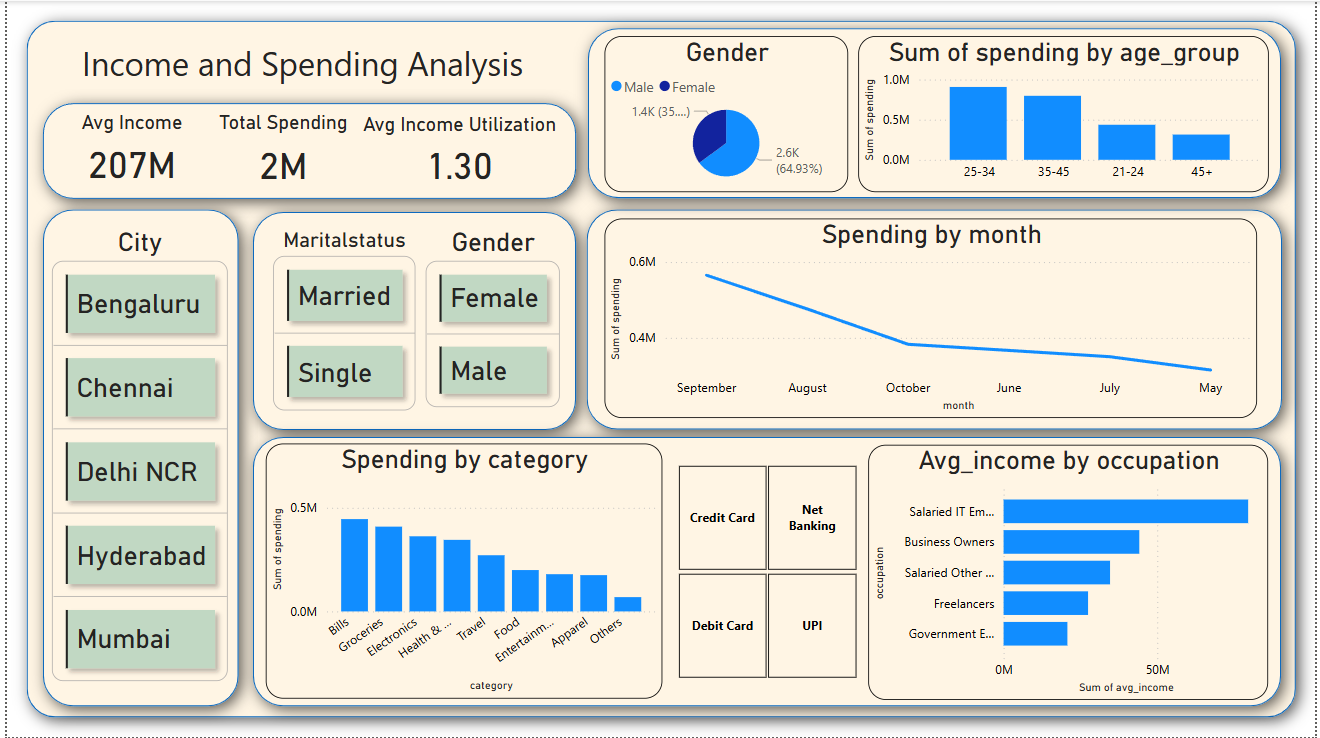

Layout of this report page (visuals, bound fields, positions):
{"tool":"powerbi","page":{"name":"Page 1","canvas":[1280,720],"ordinal":0},"visuals":[{"type":"shape","box":[584.5,13.5,553.9,165.1],"z":0},{"type":"shape","box":[0,0,1280,720],"z":1000},{"type":"shape","box":[22,13.5,553.9,165.1],"z":2000},{"type":"card","title":"Avg Income","fields":{"Values":["Sum(dim_customers_copy (2).avg_income)"]},"box":[57.5,44,129.6,107.6],"z":3000},{"type":"card","title":"Total Spending","fields":{"Values":["Sum(dim_customers_copy (2).spending)"]},"box":[187.1,44,166.3,110.1],"z":4000},{"type":"shape","box":[15.9,156.5,229.9,552.7],"z":5000},{"type":"advancedSlicerVisual","title":"City","fields":{"Values":["dim_customers_copy (2).city"]},"box":[39.1,203,182.2,451.2],"z":6000},{"type":"shape","box":[221.3,152.9,354.6,286.1],"z":7000},{"type":"advancedSlicerVisual","title":"Gender","fields":{"Values":["dim_customers_copy (2).gender"]},"box":[404.8,184.6,141.8,218.9],"z":8000},{"type":"advancedSlicerVisual","title":"Maritalstatus","fields":{"Values":["dim_customers_copy (2).marital status"]},"box":[255.6,184.6,149.2,222.6],"z":9000},{"type":"shape","box":[547.5,185,718.8,253.8],"z":10000},{"type":"shape","box":[549.4,7.1,716.5,204.7],"z":10500},{"type":"pieChart","title":"Gender","fields":{"Y":["CountNonNull(dim_customers_copy (2).gender)"],"Category":["dim_customers_copy (2).gender"]},"box":[585,33.8,238.8,152.5],"z":11000},{"type":"shape","box":[221.3,407.2,1044.3,302],"z":12000},{"type":"columnChart","title":"Spending by category","fields":{"Y":["Sum(dim_customers_copy (2).spending)"],"Category":["dim_customers_copy (2).category"]},"box":[253.1,432.9,387.6,249.5],"z":13000},{"type":"barChart","title":"Avg_income by occupation","fields":{"Category":["dim_customers_copy (2).occupation"],"Y":["Sum(dim_customers_copy (2).avg_income)"]},"box":[842.5,434.1,391.3,249.5],"z":14000},{"type":"slicer","title":"PAYMENT TYPE","fields":{"Values":["dim_customers_copy (2).payment_type"]},"box":[631,447.6,223.8,221.3],"z":15000},{"type":"card","title":"Avg Income Utilization","fields":{"Values":["Avg(dim_customers_copy (2).income_utilization)"]},"box":[336.3,44,210.3,105.2],"z":16000},{"type":"lineChart","title":"Spending by month","fields":{"Category":["dim_customers_copy (2).month"],"Y":["Sum(dim_customers_copy (2).spending)"]},"box":[585,212.5,638.8,195],"z":17000},{"type":"clusteredColumnChart","fields":{"Category":["dim_customers_copy (2).age_group"],"Y":["Sum(dim_customers_copy (2).spending)"]},"box":[832.5,33.8,401.2,152.5],"z":18000}]}

Visuals, with their boxes in screenshot pixels (x1, y1, x2, y2), scaled from the page's 1280x720 canvas onto the 1320x738 screenshot:
shape: <bbox>603, 14, 1174, 183</bbox>
shape: <bbox>0, 0, 1319, 737</bbox>
shape: <bbox>23, 14, 594, 183</bbox>
"Avg Income" card: <bbox>59, 45, 193, 155</bbox>
"Total Spending" card: <bbox>193, 45, 364, 158</bbox>
shape: <bbox>16, 160, 253, 727</bbox>
"City" advancedSlicerVisual: <bbox>40, 208, 228, 671</bbox>
shape: <bbox>228, 157, 594, 450</bbox>
"Gender" advancedSlicerVisual: <bbox>417, 189, 564, 414</bbox>
"Maritalstatus" advancedSlicerVisual: <bbox>264, 189, 417, 417</bbox>
shape: <bbox>565, 190, 1306, 450</bbox>
shape: <bbox>567, 7, 1305, 217</bbox>
"Gender" pieChart: <bbox>603, 35, 850, 191</bbox>
shape: <bbox>228, 417, 1305, 727</bbox>
"Spending by category" columnChart: <bbox>261, 444, 661, 699</bbox>
"Avg_income by occupation" barChart: <bbox>869, 445, 1272, 701</bbox>
"PAYMENT TYPE" slicer: <bbox>651, 459, 882, 686</bbox>
"Avg Income Utilization" card: <bbox>347, 45, 564, 153</bbox>
"Spending by month" lineChart: <bbox>603, 218, 1262, 418</bbox>
clusteredColumnChart - dim_customers_copy (2).age_group x Sum(dim_customers_copy (2).spending): <bbox>859, 35, 1272, 191</bbox>
